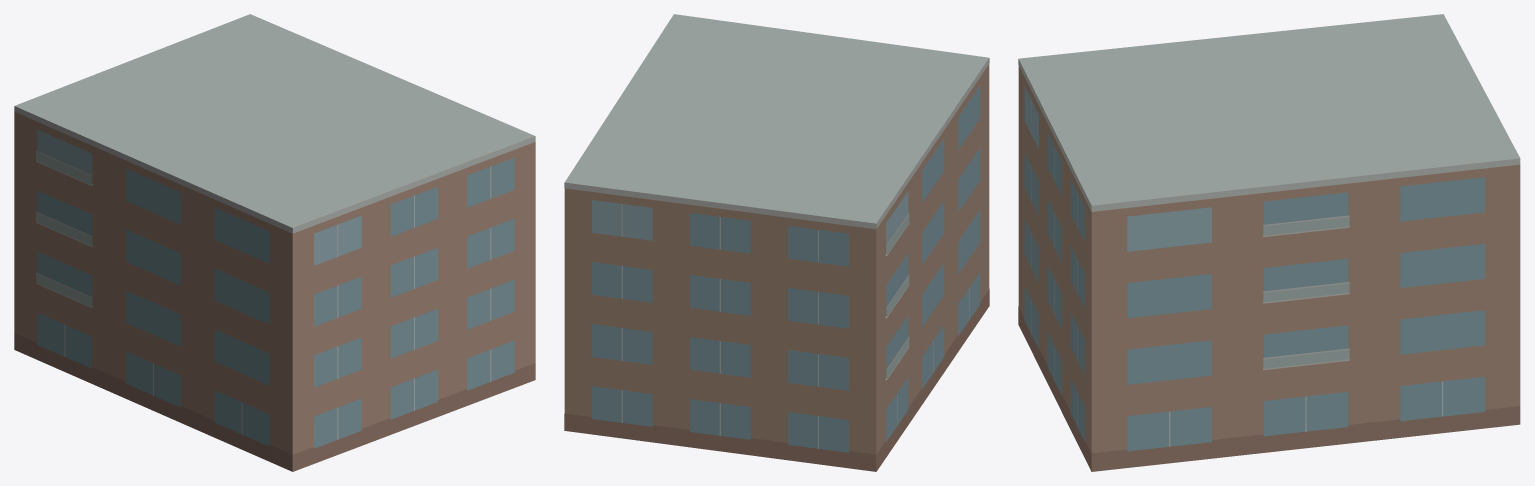
The model's file is survey-upis-32946086.glb.
3 views of the same model, side by side, from view 1: azimuth 30°, elevation 25°; view 2: azimuth 150°, elevation 25°; view 3: azimuth 270°, elevation 25° (orthographic). The views are drawn at different scales.
Parts seen in each view (by area): view 1: survey-upis-32946086.tmp; view 2: survey-upis-32946086.tmp; view 3: survey-upis-32946086.tmp.
Part boxes in pixels (x1,y1,x2,y2): survey-upis-32946086.tmp: (14, 14, 535, 471); survey-upis-32946086.tmp: (564, 14, 989, 471); survey-upis-32946086.tmp: (1018, 14, 1520, 471).
Bounding box in the file's own units: 16.24 × 10.5 × 17.96.
